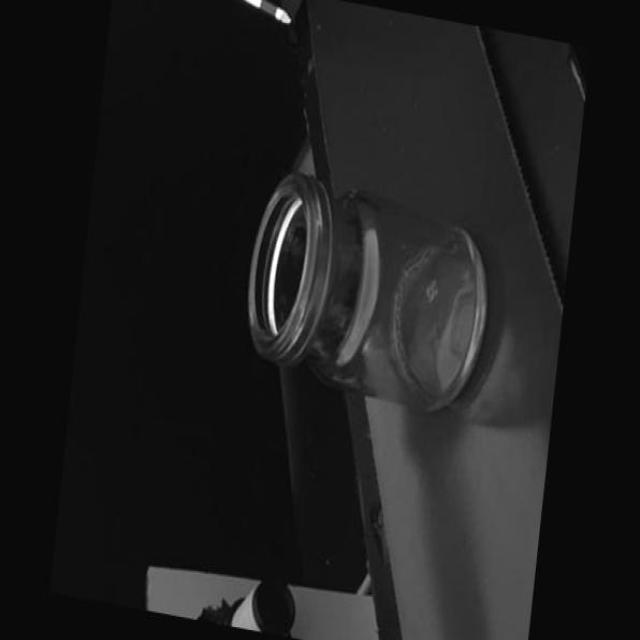glass: (231, 156, 506, 426)
